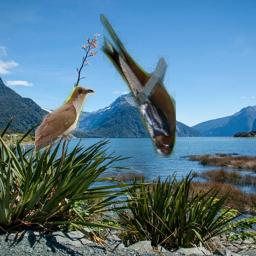Cuckoo: (35, 86, 96, 154)
Swallow: (100, 14, 176, 158)
